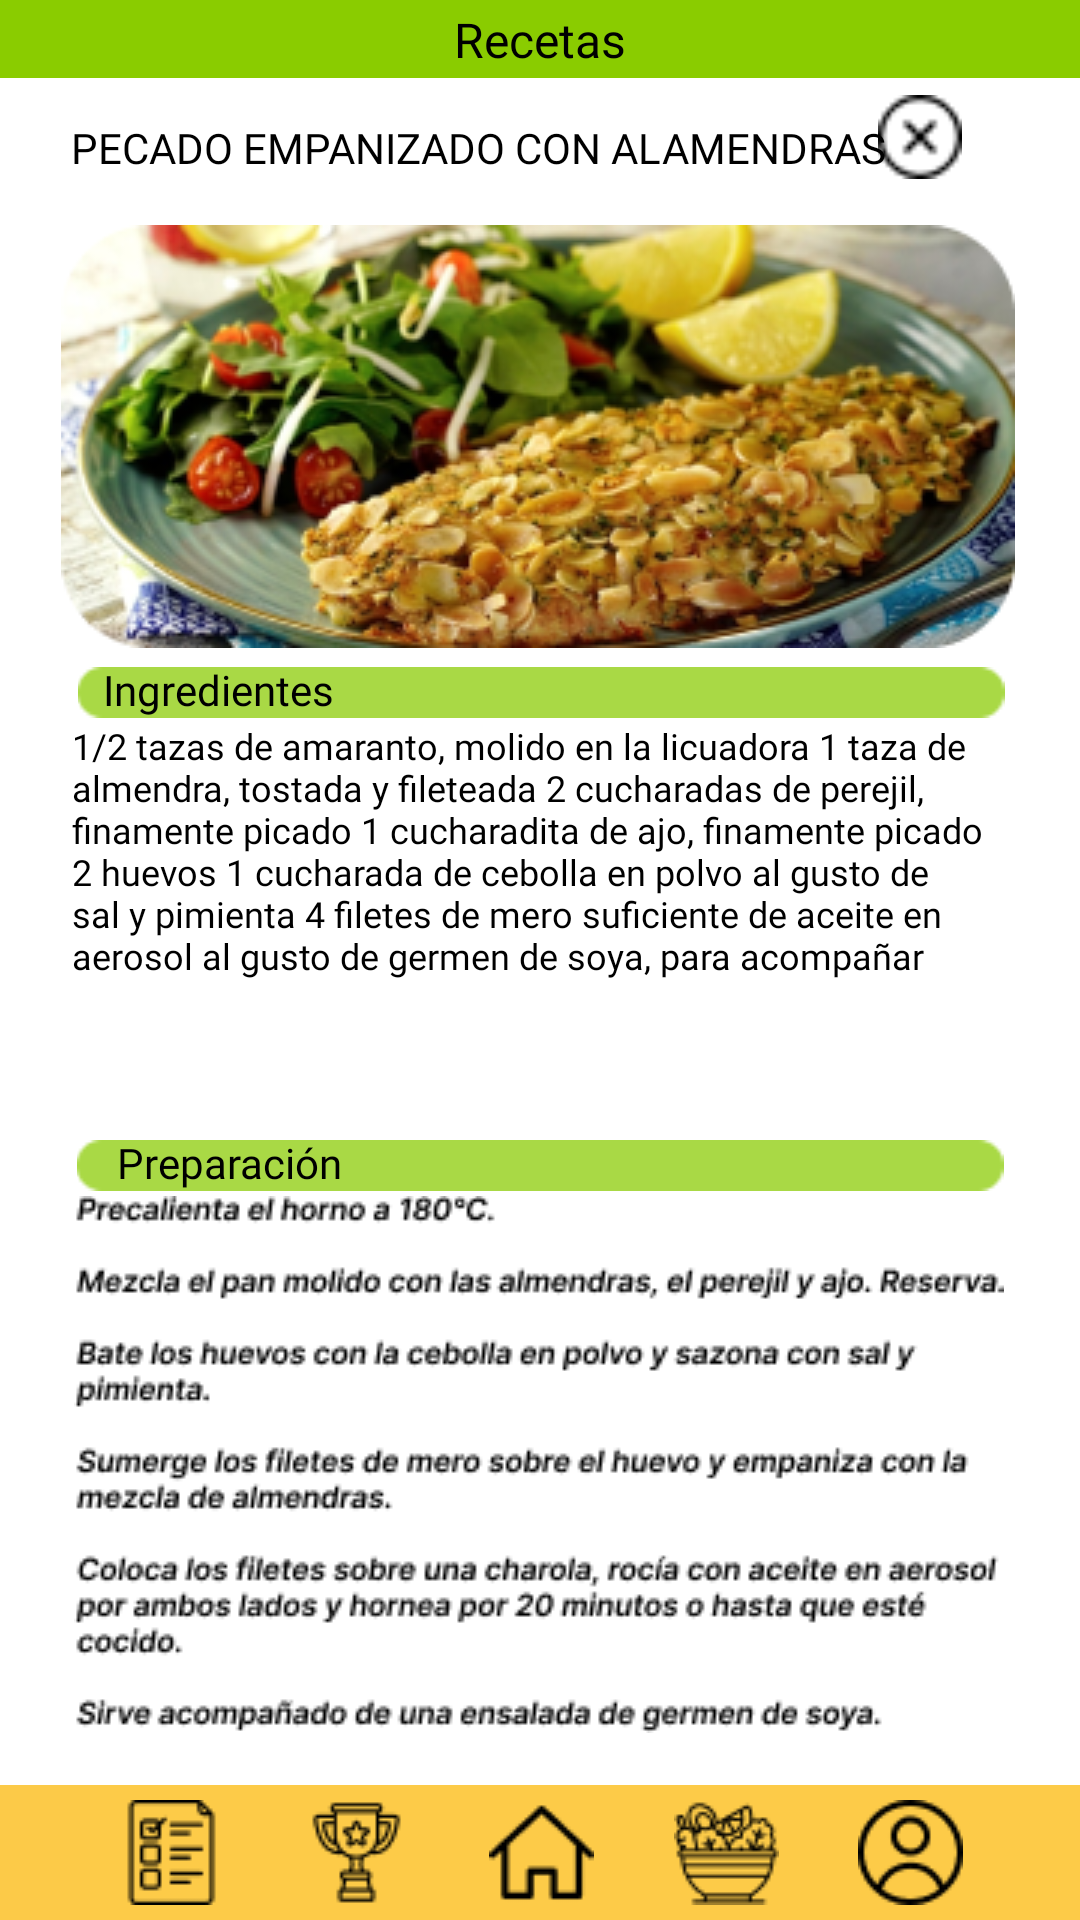

Icons on this 1080 × 1920 Android screen, each with its box as (x1, y1, x2, y2):
iniciop: (489, 1805, 594, 1900)
listatareas: (127, 1800, 216, 1905)
logros: (312, 1802, 401, 1903)
perfil: (858, 1800, 963, 1905)
recetass: (674, 1802, 779, 1905)
volver: (878, 95, 962, 179)
